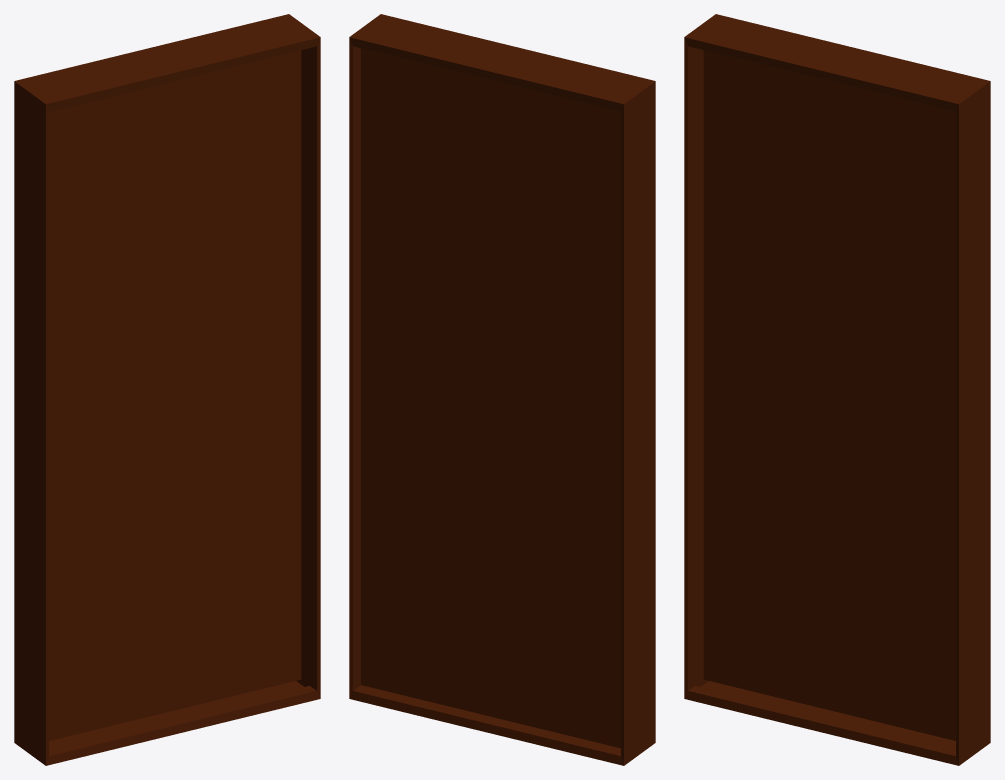
The model's file is Door.glb.
The picture shows the model from 3 angles, left to right: view 1: azimuth 30°, elevation 25°; view 2: azimuth 150°, elevation 25°; view 3: azimuth 330°, elevation 25°; orthographic projection.
Visible parts, largest first — view 1: Inside, Outside; view 2: Inside, Outside; view 3: Inside, Outside.
Boxes of the visible parts, x1,y1,x2,y2 form: Inside: (49,50,301,740); Outside: (14,14,320,765); Inside: (361,48,620,748); Outside: (349,14,655,765); Inside: (703,50,955,740); Outside: (684,14,990,765).
Size of the model in its own units: 1 by 2.3 by 0.2.
